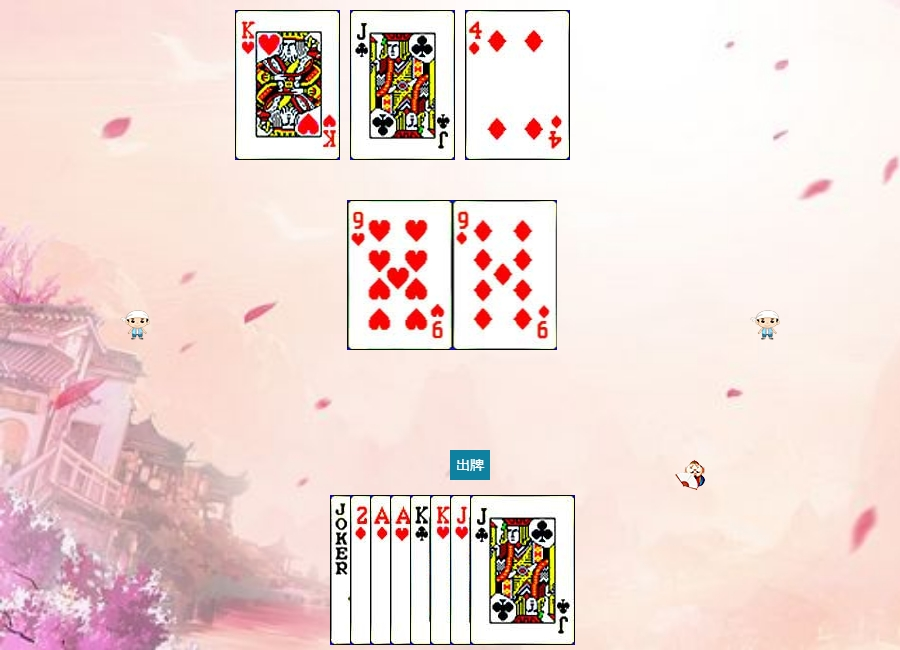11~2: (350, 10, 455, 160), (470, 495, 575, 645)
11~3: (450, 495, 555, 645)
13~2: (410, 495, 515, 645)
13~3: (235, 10, 340, 160), (430, 495, 535, 645)
14~1: (370, 495, 475, 645)
14~3: (390, 495, 495, 645)
15~1: (350, 495, 455, 645)
17~3: (330, 495, 435, 645)
4~1: (465, 10, 570, 160)
9~1: (453, 200, 558, 350)
9~3: (348, 200, 453, 350)
